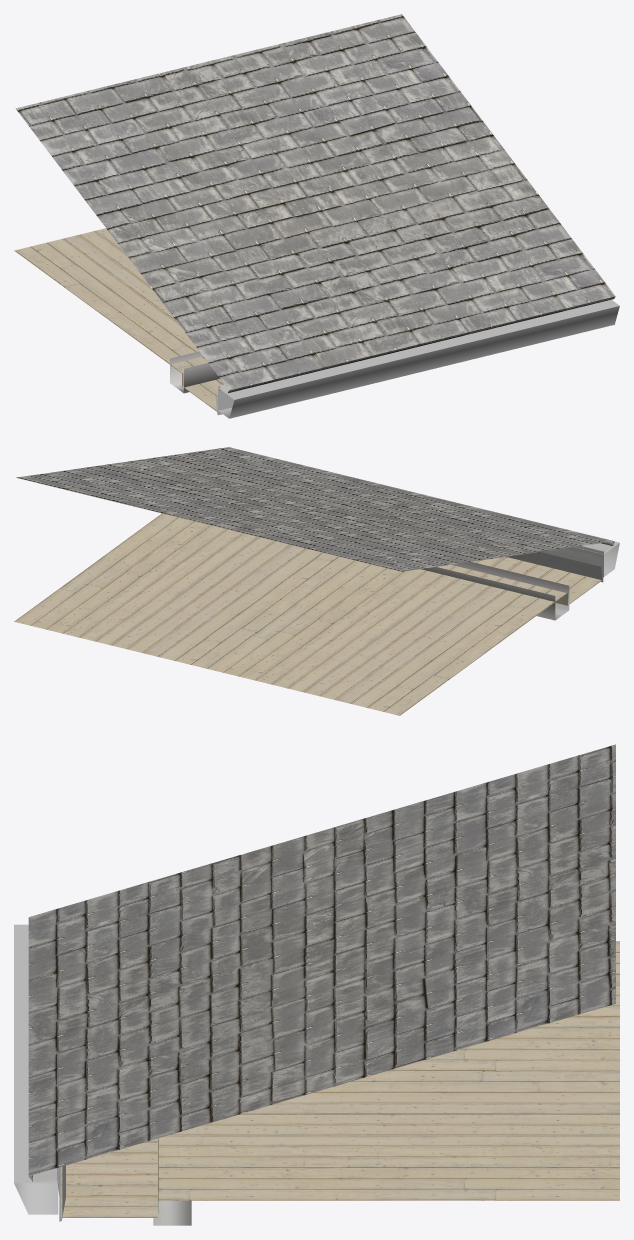
File: Porch_2x_COL.FBX
The picture shows the model from 3 angles, top to bottom: view 1: azimuth 30°, elevation 25°; view 2: azimuth 150°, elevation 25°; view 3: azimuth 270°, elevation 25°; orthographic projection. The views are drawn at different scales.
Visible parts, largest first — view 1: Porch_2x_COL; view 2: Porch_2x_COL; view 3: Porch_2x_COL.
Part boxes in pixels (bbox=[...]): Porch_2x_COL: bbox=[14, 14, 619, 418]; Porch_2x_COL: bbox=[14, 447, 619, 715]; Porch_2x_COL: bbox=[14, 744, 619, 1225].
Size of the model in its own units: 201 by 80.25 by 198.
